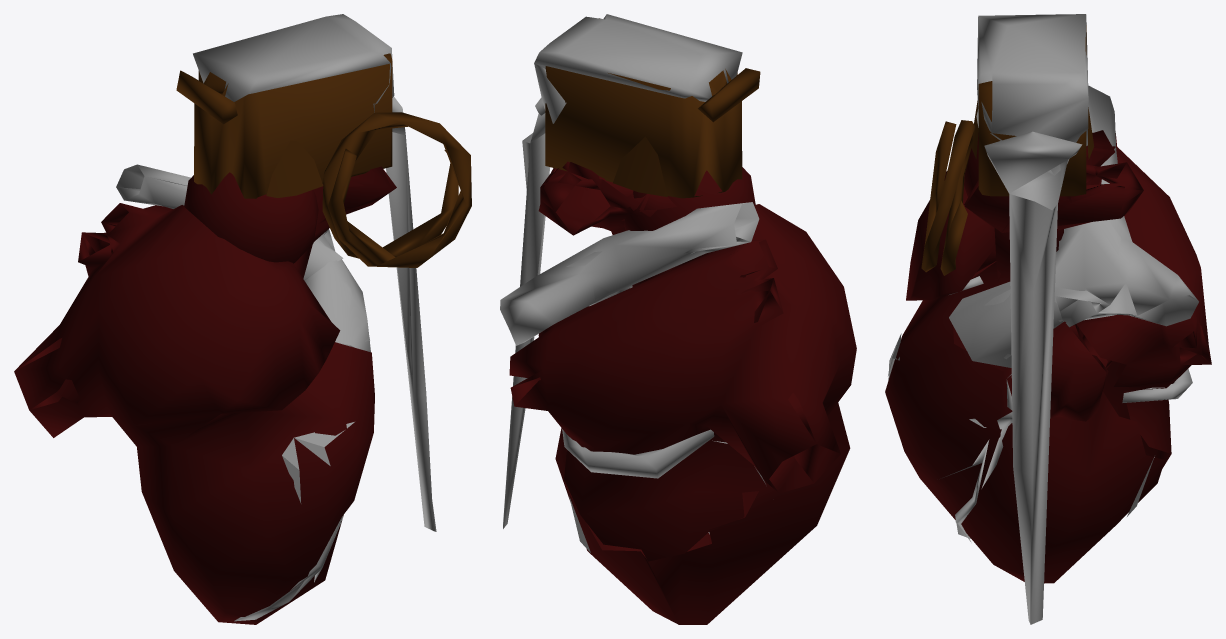
The model's file is heartbomb_m.obj.
3 renders of one model, left to right at view 1: azimuth 30°, elevation 25°; view 2: azimuth 150°, elevation 25°; view 3: azimuth 270°, elevation 25°, orthographic.
Bounding box in the file's own units: 3.12 × 4.49 × 2.38.
